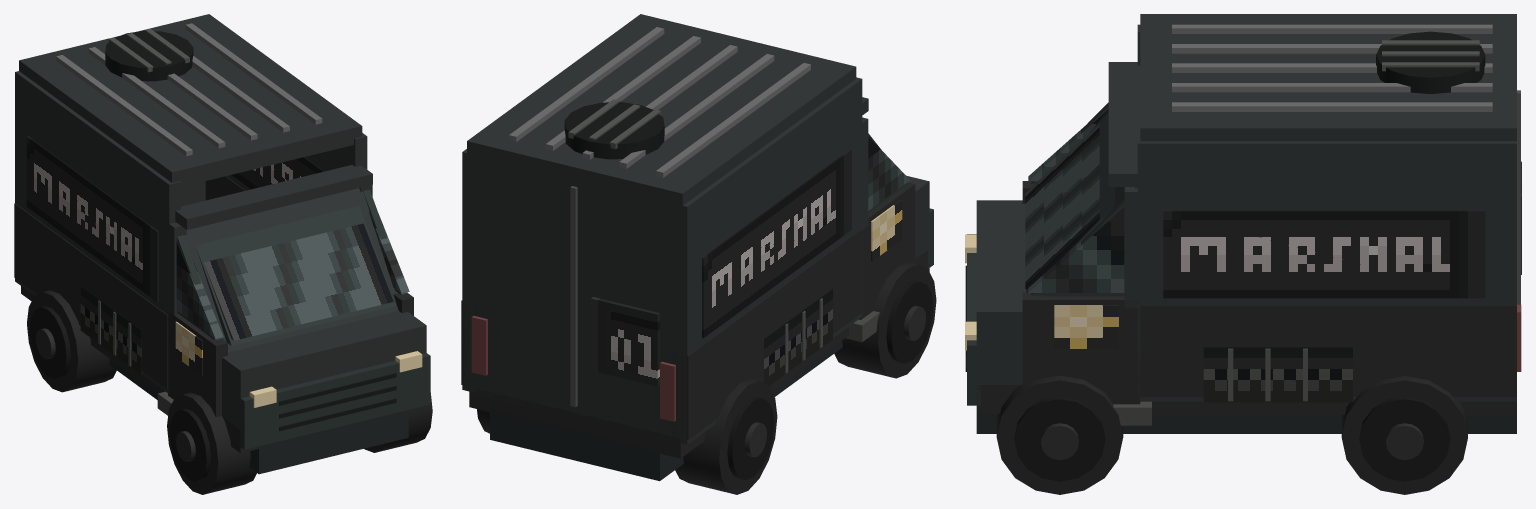
The model's file is CMU3DVehicleCMBPoliceVanVehicleFinalCloud.glb.
3 renders of one model, left to right at view 1: azimuth 30°, elevation 25°; view 2: azimuth 150°, elevation 25°; view 3: azimuth 270°, elevation 25°, orthographic. The views are drawn at different scales.
Parts seen in each view (by area): view 1: van box roof, original front windshield, van cargo shell side -1, van low front hood, original van side branding -1, van lower side color band -1, front radiator surround, raised van roof rib (×5), sloping van windshield backing, van cab roof, van connected chassis, recessed front van windshield (+22 smaller); view 2: van rear shell wall, van box roof, van cargo shell side -1, original van side branding -1, van lower side color band -1, raised van roof rib (×5), van connected chassis, van cargo floor, original rear door marking, tire 1 -1, tire 0 -1, round van roof fan housing (+16 smaller); view 3: van cargo shell side 1, van box roof, original van side branding 1, van lower side color band 1, raised van roof rib (×5), van low front hood, van cab lower door 1, original lower ventilation panel 1, original front windshield, tire 0 1, tire 1 1, van connected chassis (+18 smaller).
Boxes of the visible parts, x1=… form: van box roof: x1=19, y1=14, x2=362, y2=186; original front windshield: x1=204, y1=223, x2=393, y2=340; van cargo shell side -1: x1=15, y1=71, x2=181, y2=393; van low front hood: x1=222, y1=311, x2=426, y2=429; original van side branding -1: x1=26, y1=136, x2=158, y2=302; van lower side color band -1: x1=14, y1=203, x2=167, y2=389; front radiator surround: x1=240, y1=353, x2=430, y2=449; raised van roof rib (×5): x1=56, y1=23, x2=322, y2=156; sloping van windshield backing: x1=175, y1=188, x2=398, y2=352; van cab roof: x1=175, y1=165, x2=372, y2=229; van connected chassis: x1=109, y1=359, x2=408, y2=474; recessed front van windshield: x1=196, y1=206, x2=395, y2=345; van rear shell wall: x1=470, y1=155, x2=680, y2=444; van box roof: x1=467, y1=14, x2=856, y2=212; van cargo shell side -1: x1=673, y1=77, x2=862, y2=444; original van side branding -1: x1=702, y1=149, x2=851, y2=338; van lower side color band -1: x1=672, y1=229, x2=861, y2=439; raised van roof rib (×5): x1=509, y1=27, x2=810, y2=177; van connected chassis: x1=490, y1=340, x2=842, y2=481; van cargo floor: x1=469, y1=327, x2=848, y2=458; original rear door marking: x1=591, y1=297, x2=659, y2=386; tire 1 -1: x1=675, y1=379, x2=777, y2=494; tire 0 -1: x1=834, y1=262, x2=936, y2=378; round van roof fan housing: x1=564, y1=102, x2=664, y2=159; van cargo shell side 1: x1=1137, y1=136, x2=1516, y2=401; van box roof: x1=1140, y1=14, x2=1516, y2=141; original van side branding 1: x1=1163, y1=210, x2=1485, y2=298; van lower side color band 1: x1=1140, y1=305, x2=1516, y2=396; raised van roof rib (×5): x1=1172, y1=24, x2=1492, y2=111; van low front hood: x1=976, y1=200, x2=1025, y2=384; van cab lower door 1: x1=1022, y1=292, x2=1140, y2=404; original lower ventilation panel 1: x1=1203, y1=347, x2=1352, y2=402; original front windshield: x1=1025, y1=124, x2=1099, y2=288; tire 0 1: x1=996, y1=375, x2=1123, y2=494; tire 1 1: x1=1341, y1=376, x2=1467, y2=494; van connected chassis: x1=976, y1=413, x2=1516, y2=433.
Bounding box in the file's own units: 1.15 × 1.45 × 1.94.
Materials: 21 (6 with a texture image).
